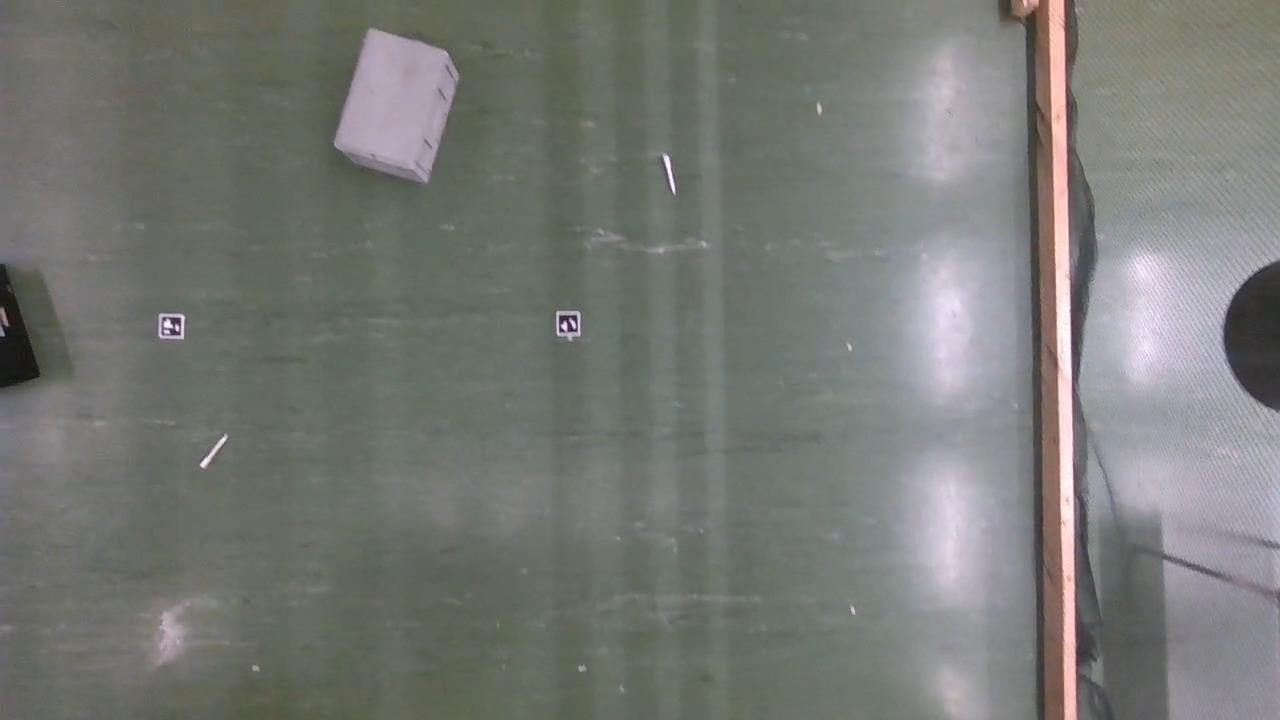probes: (200, 433, 228, 469), (661, 153, 676, 196)
rako: (329, 25, 463, 187)
